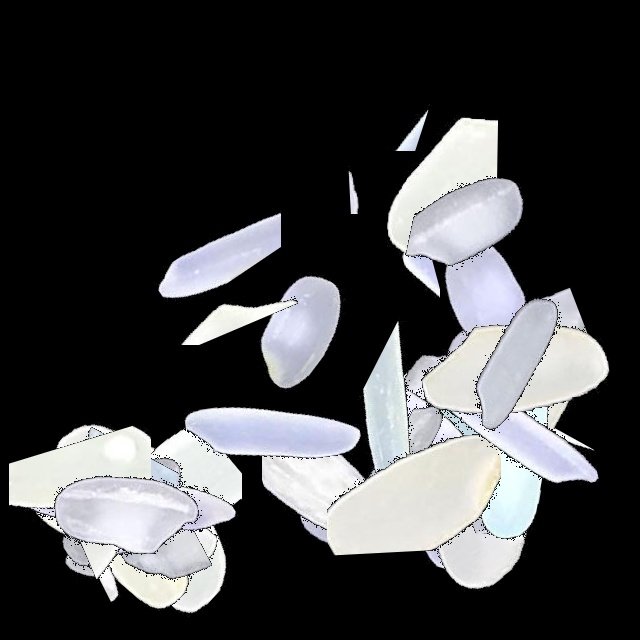Broken: (327, 338, 501, 588), (375, 139, 625, 312), (262, 345, 432, 595), (293, 101, 543, 259), (390, 283, 640, 435), (358, 292, 509, 542), (9, 390, 151, 640), (39, 390, 179, 640), (143, 85, 281, 335), (105, 373, 242, 623), (11, 496, 261, 625), (39, 390, 162, 640), (379, 274, 493, 524), (383, 355, 497, 605), (249, 41, 499, 151), (64, 371, 173, 621), (74, 390, 181, 640), (0, 502, 250, 606), (391, 277, 495, 527), (61, 390, 164, 640), (20, 484, 270, 584), (161, 490, 411, 589), (342, 174, 440, 424), (389, 378, 639, 475), (62, 255, 312, 345), (387, 411, 637, 500), (379, 454, 629, 534), (262, 138, 512, 214)
Full: (34, 390, 284, 640), (361, 287, 611, 537), (173, 205, 423, 455), (356, 256, 606, 506), (0, 390, 250, 640), (305, 346, 555, 596), (296, 347, 546, 597), (346, 360, 596, 610), (0, 377, 250, 627), (387, 295, 637, 545), (390, 317, 640, 567), (304, 280, 554, 530), (357, 168, 607, 418), (386, 298, 636, 548), (0, 388, 250, 638), (390, 241, 640, 491), (390, 234, 640, 484), (146, 305, 396, 555)
